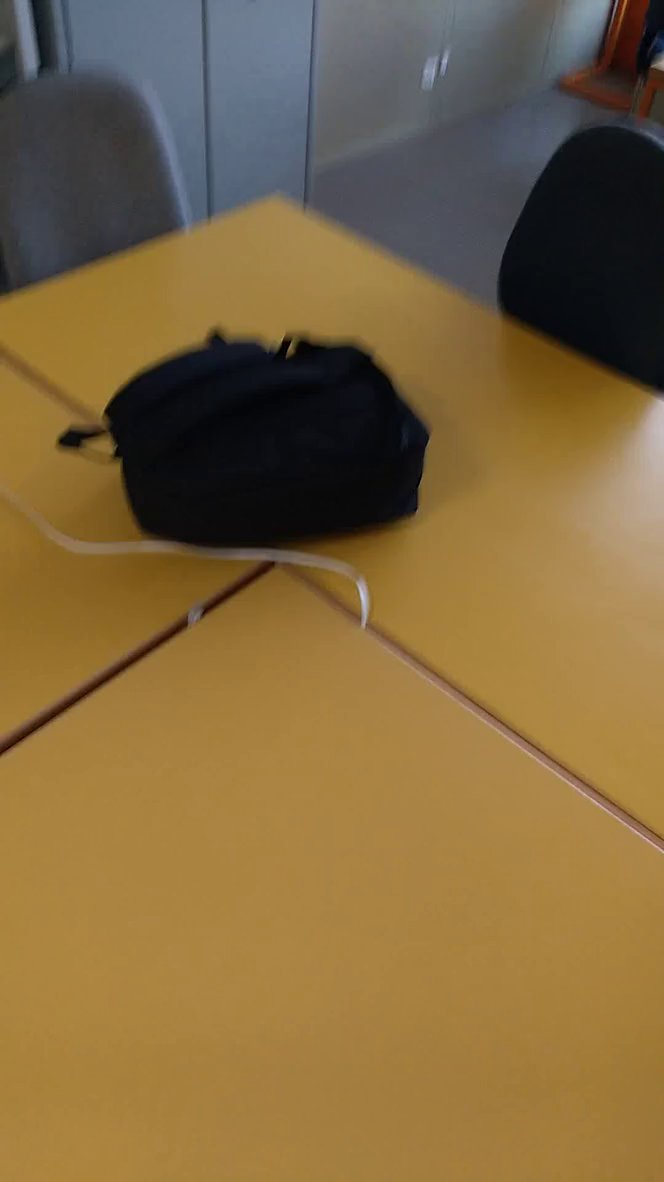bag: (55, 316, 464, 559)
chair: (2, 46, 201, 311), (490, 106, 664, 406)
